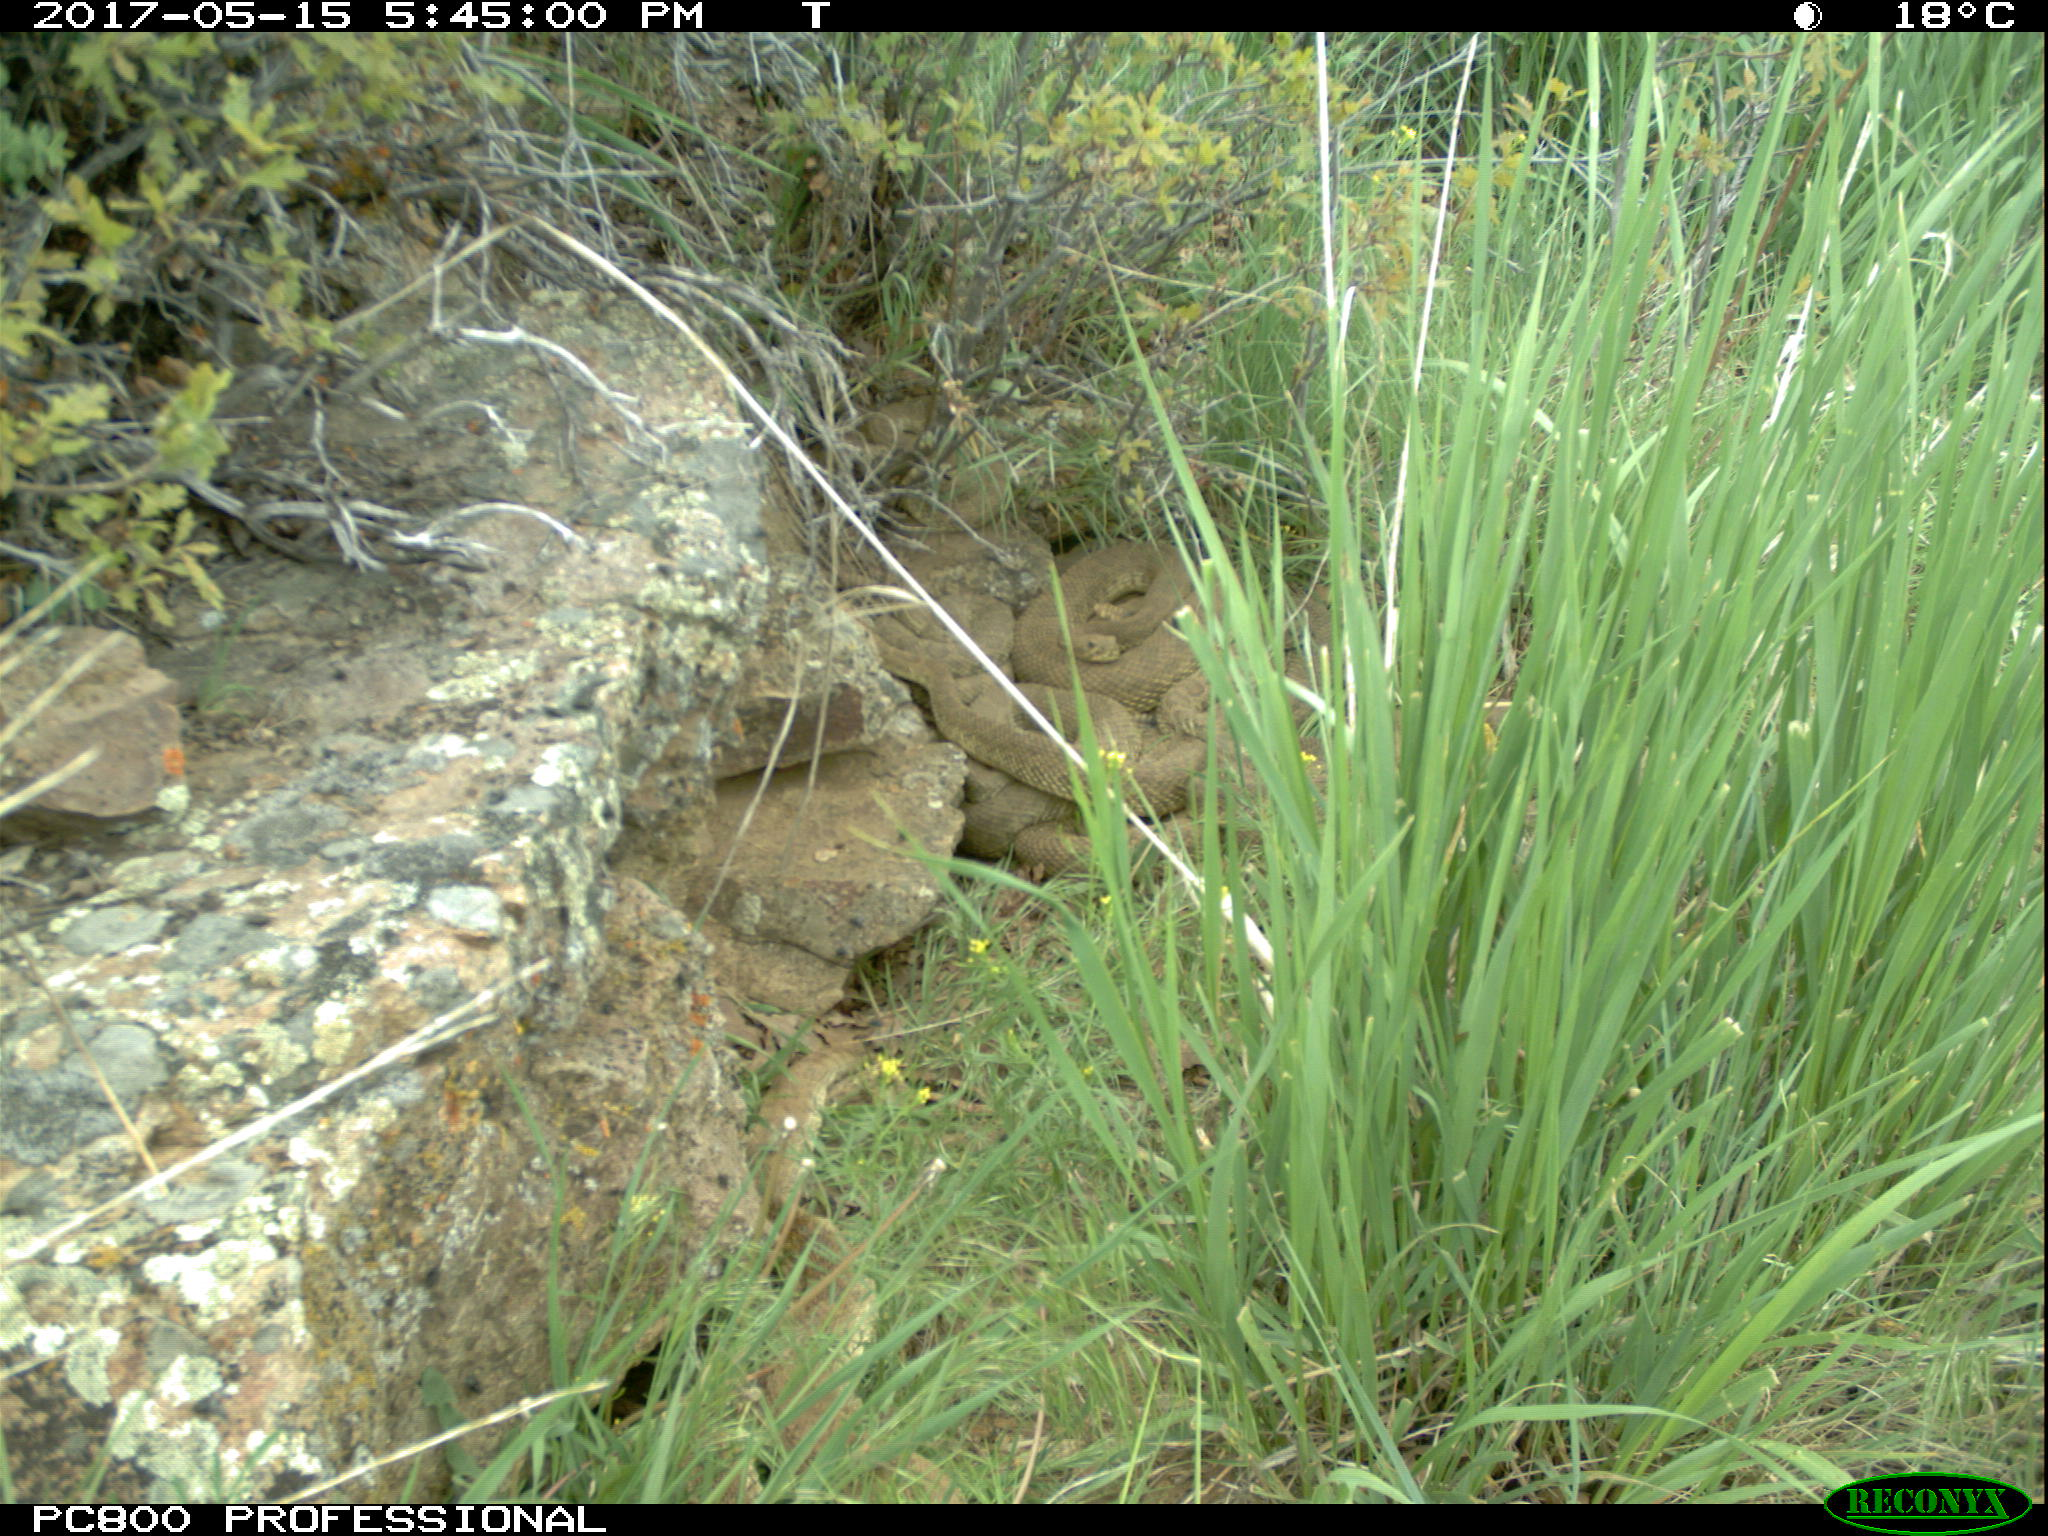snake: (876, 645, 1214, 815), (743, 1046, 861, 1462), (1014, 532, 1214, 708), (956, 771, 1138, 878), (893, 452, 1019, 528), (863, 386, 955, 449)
